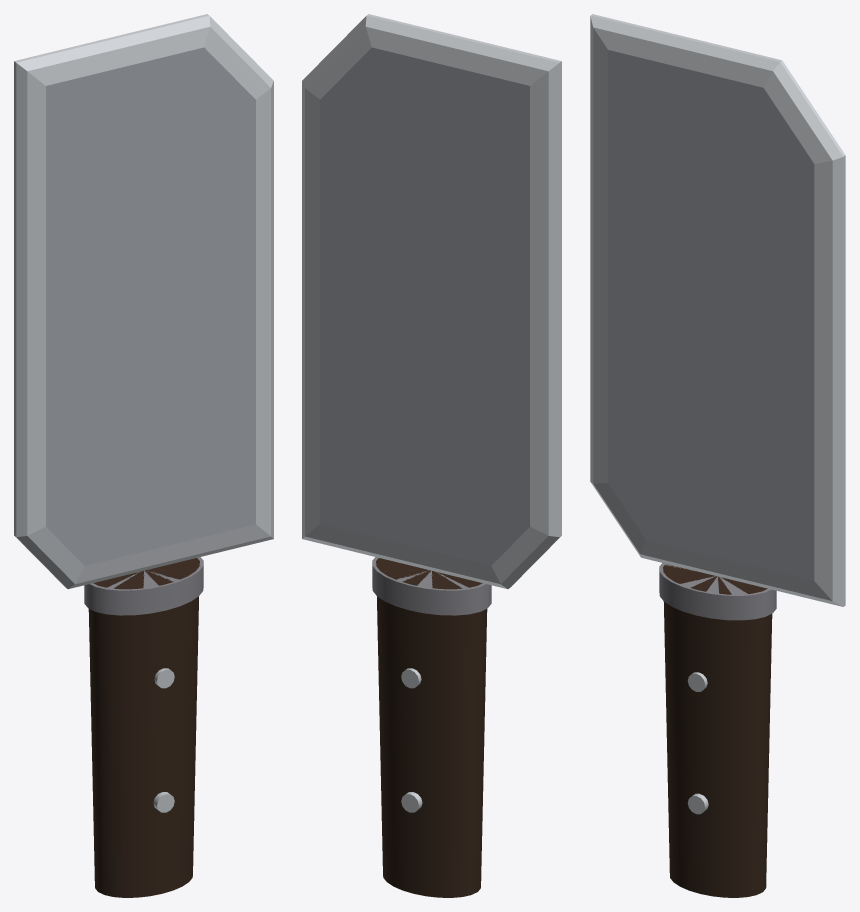
Rendered from 02_Common_Kitchen_Cleaver.glb.
The picture shows the model from 3 angles, left to right: view 1: azimuth 30°, elevation 25°; view 2: azimuth 150°, elevation 25°; view 3: azimuth 330°, elevation 25°; orthographic projection.
Visible parts, largest first — view 1: blade_0, handle_1, ferrule_2; view 2: blade_0, handle_1, ferrule_2; view 3: blade_0, handle_1, ferrule_2.
Boxes of the visible parts, bbox=[...] form: blade_0: bbox=[14, 14, 273, 589]; handle_1: bbox=[88, 558, 199, 897]; ferrule_2: bbox=[84, 557, 203, 615]; blade_0: bbox=[302, 14, 561, 589]; handle_1: bbox=[376, 558, 487, 897]; ferrule_2: bbox=[372, 557, 491, 615]; blade_0: bbox=[590, 14, 845, 606]; handle_1: bbox=[663, 564, 772, 897]; ferrule_2: bbox=[659, 563, 776, 620].
Size of the model in its own units: 0.13 by 0.41 by 0.0383.
Materials: 5 (5 with a texture image).
